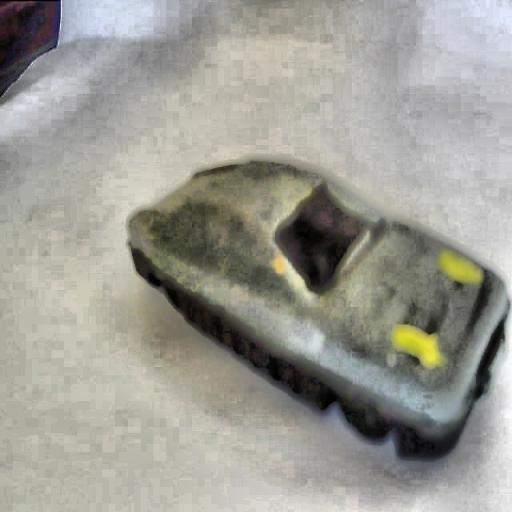normal_car: (120, 150, 512, 462)
